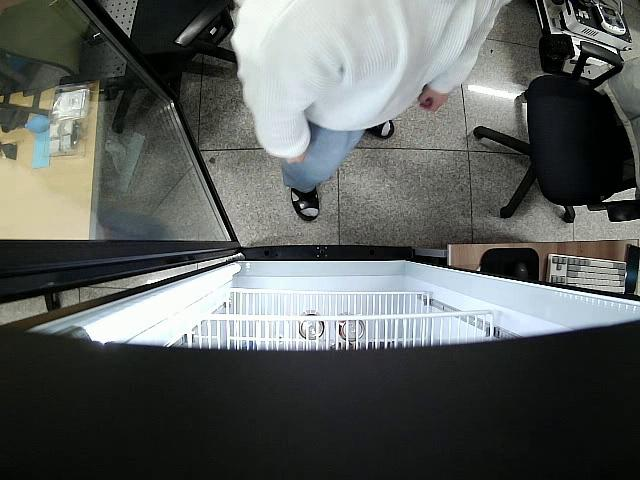00_hand: (417, 85, 449, 111)
